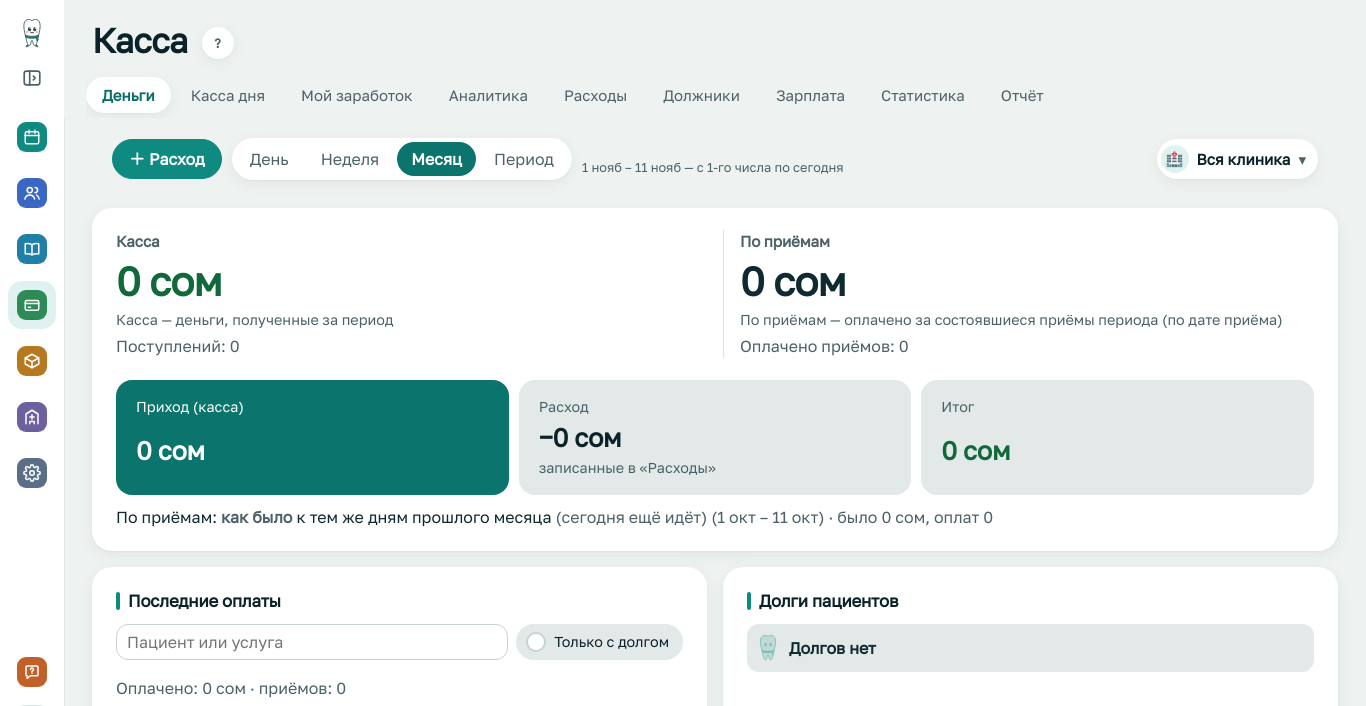
it: аналитика: отмены и неявки по причинам — больше всего первыми, «Не указана» последней
Expected: the navigation bar named "Разделы" is shown, 8,113 -> 56,497
Click the link "Аналитика" at (488, 95), box 449,86 -> 528,104
(page scrolled)
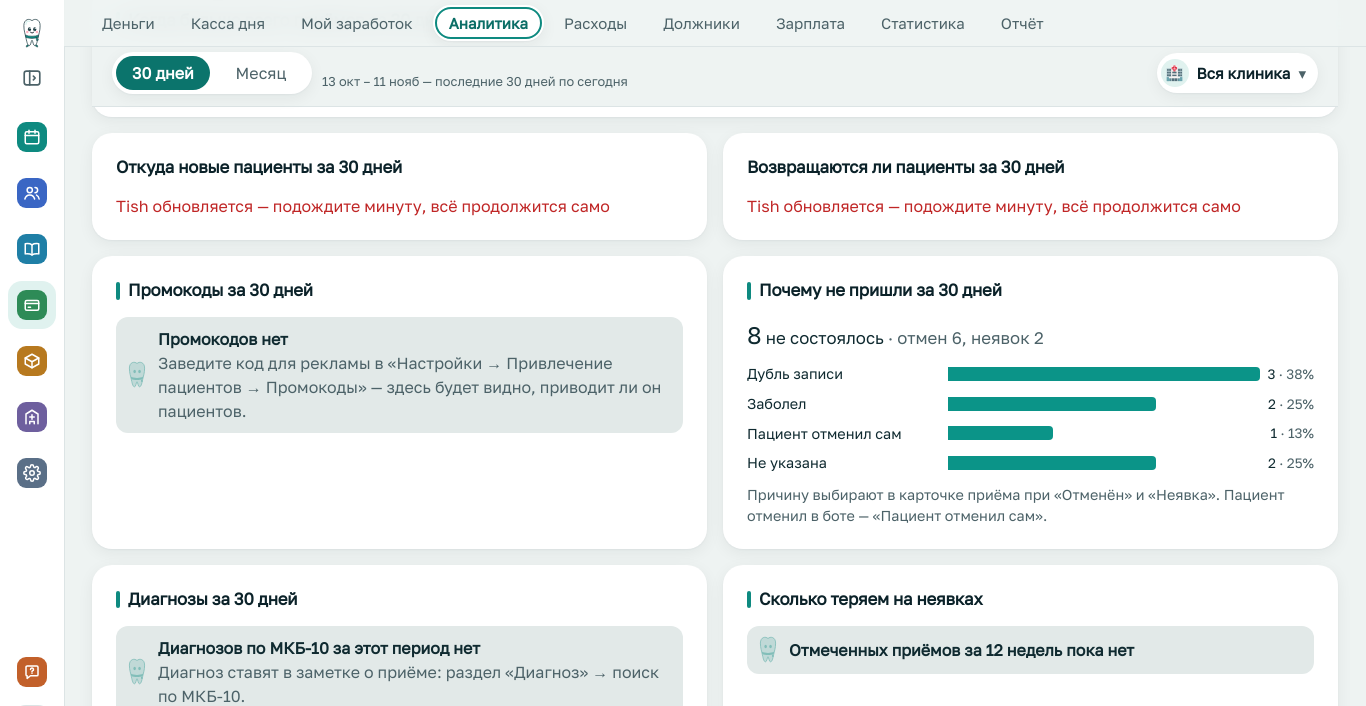
Now the text "8 не состоялось · отмен 6, неявок 2" is shown, box 747,320 -> 1044,349
